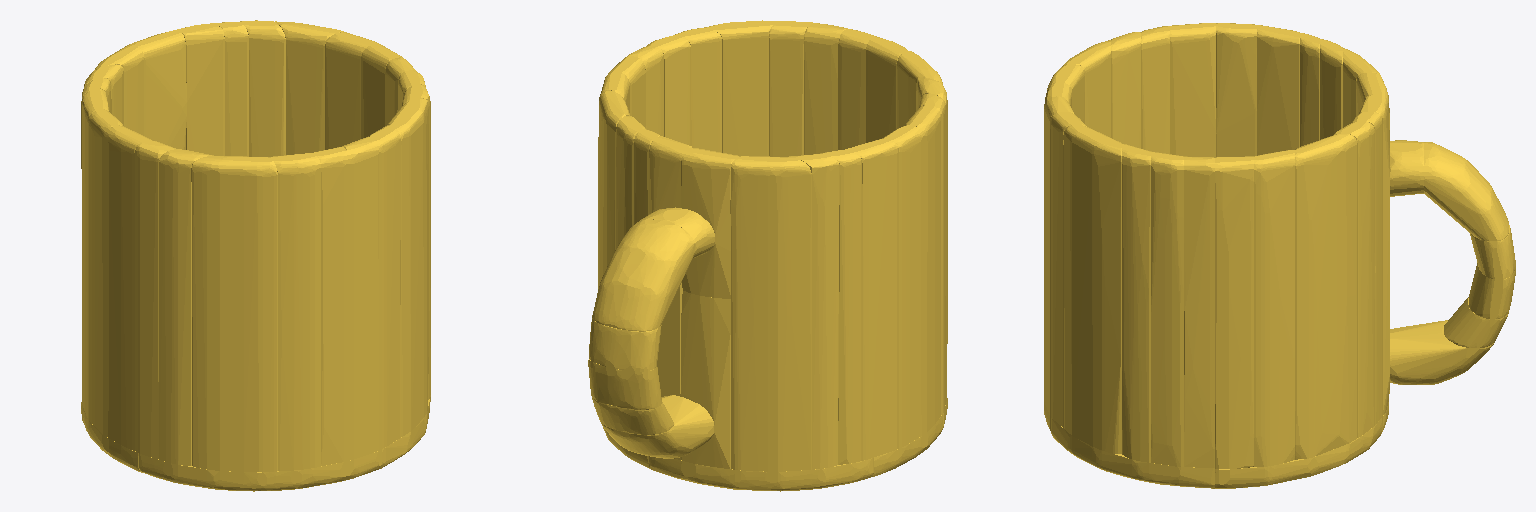
The robot description file, URDF, robot "362.urdf":
<?xml version="1.0" ?>
<robot name="362.urdf">
	<link name="baseLink">
		<inertial>
			<origin rpy="0 0 0" xyz="0 0 0"/>
				<mass value="0.1"/>
				<inertia ixx="6e-5" ixy="0" ixz="0" iyy="6e-5" iyz="0" izz="6e-5"/>
		</inertial>
		<visual>
			<origin rpy="0 0 0" xyz="0 0 0"/>
			<geometry>
				<mesh filename="21_decom_wt.obj" scale="0.92 0.92 0.96"/>
			</geometry>
			<material name="yellow">
				<color rgba="0.98 0.84 0.35 1"/>
			</material>
		</visual>
		<collision>
			<origin rpy="0 0 0" xyz="0 0 0"/>
			<geometry>
				<mesh filename="21_decom_wt.obj" scale="0.92 0.92 0.96"/>
			</geometry>
		</collision>
	</link>
</robot>

--- Render facts (derived) ---
The picture shows the robot from 3 angles, left to right: view 1: azimuth 30°, elevation 25°; view 2: azimuth 150°, elevation 25°; view 3: azimuth 270°, elevation 25°; orthographic projection.
Robot: 362.urdf — 1 links, 0 joints (none); root link baseLink; default pose: all joints at 0.
Links seen in each view (by area): view 1: baseLink; view 2: baseLink; view 3: baseLink.
Link boxes in pixels (x1,y1,x2,y2): baseLink: (81,20,430,491); baseLink: (588,20,947,491); baseLink: (1044,23,1515,488).
Size in the robot's own frame: 0.0903 by 0.1234 by 0.0947 metres.
1 mesh visuals loaded from 1 distinct referenced files (1 OBJ).